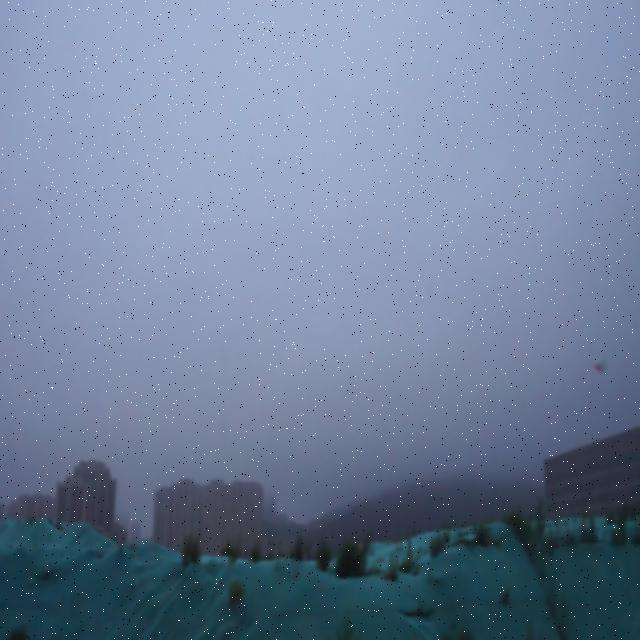UAV: (593, 360, 606, 373)
